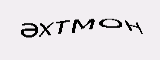М: (70, 18, 95, 35)
Н: (123, 18, 144, 34)
О: (97, 16, 123, 30)
Т: (52, 19, 70, 35)
Х: (37, 21, 55, 39)
Ә: (18, 22, 39, 39)
